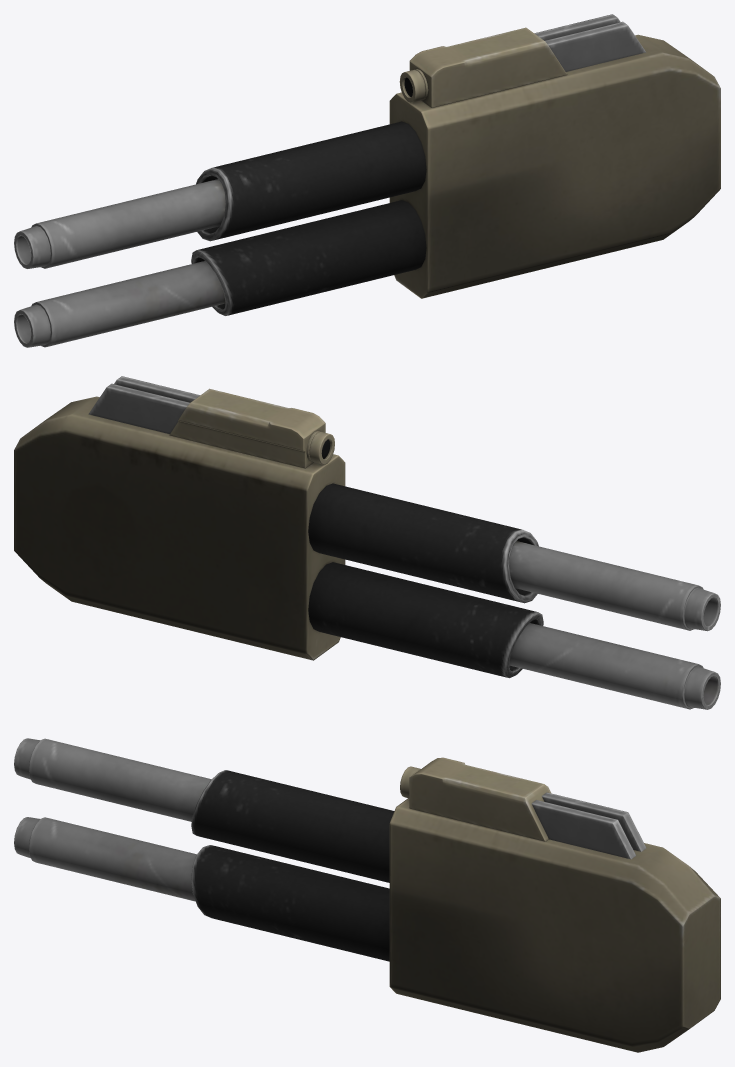
File: Sci_Fi_AA_Turret_Weaponfbx.fbx
3 renders of one model, top to bottom at view 1: azimuth 30°, elevation 25°; view 2: azimuth 150°, elevation 25°; view 3: azimuth 330°, elevation 25°, orthographic.
Visible parts, largest first — view 1: Sci_Fi_AA_Turret_; view 2: Sci_Fi_AA_Turret_; view 3: Sci_Fi_AA_Turret_.
Boxes of the visible parts, bbox=[...] form: Sci_Fi_AA_Turret_: bbox=[14, 14, 720, 347]; Sci_Fi_AA_Turret_: bbox=[14, 376, 720, 709]; Sci_Fi_AA_Turret_: bbox=[14, 738, 720, 1052].
Bounding box in the file's own units: 233 × 73.81 × 22.65.
